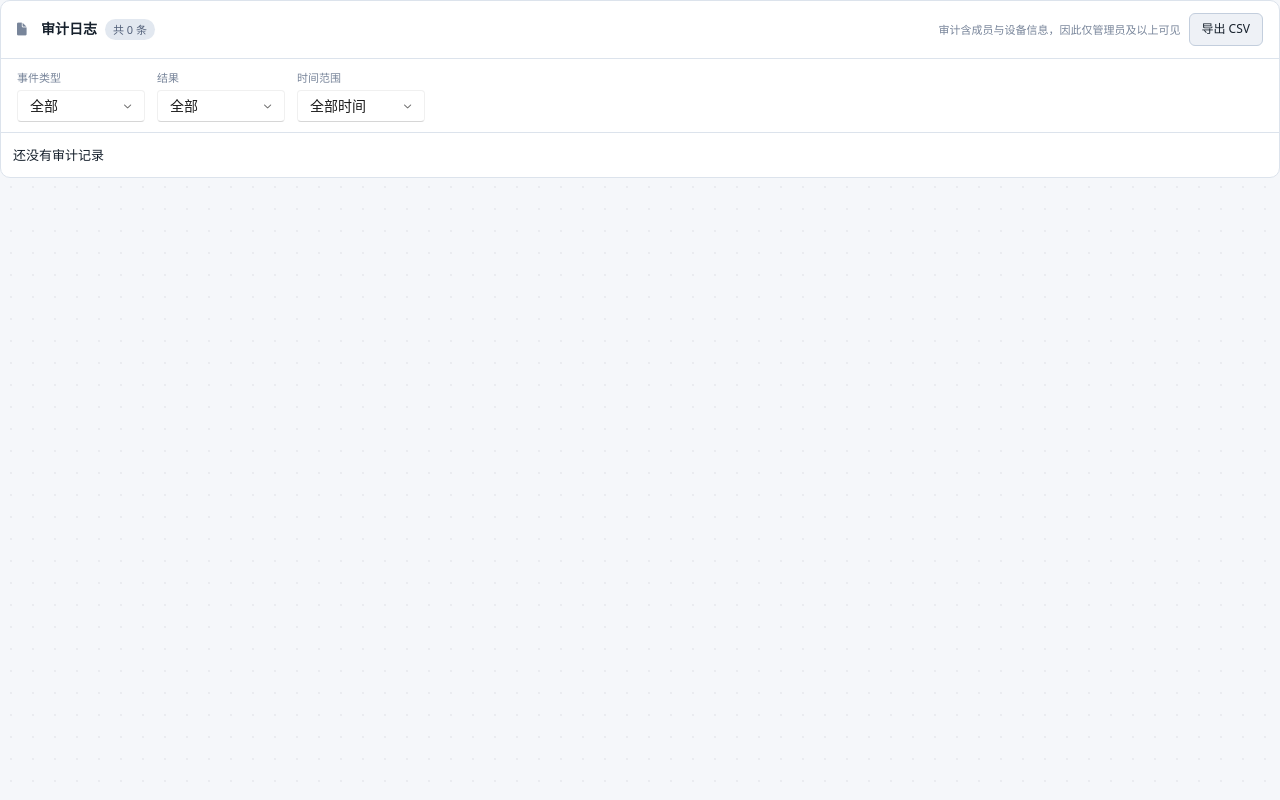
GroupAuditPanel 导出 CSV › 导出的是当前筛选下的记录，并且带上人话列
What coordinates should you click on to do the following:
click the button with test id "audit-export"
I would click on:
 (1226, 29)
Its box is [1188,13,1263,46].
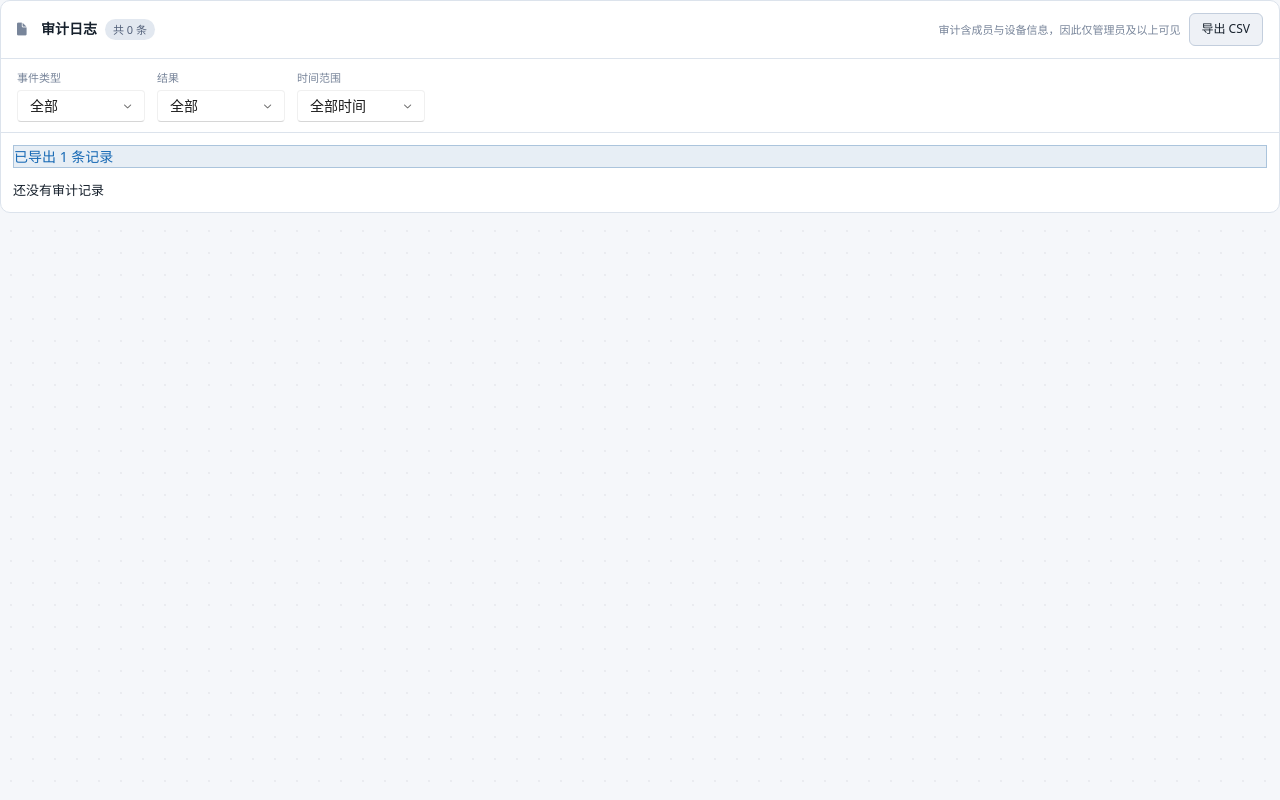
Expected: the text with test id "audit-export-notice" shows "已导出 1 条", [14,147,113,166]
